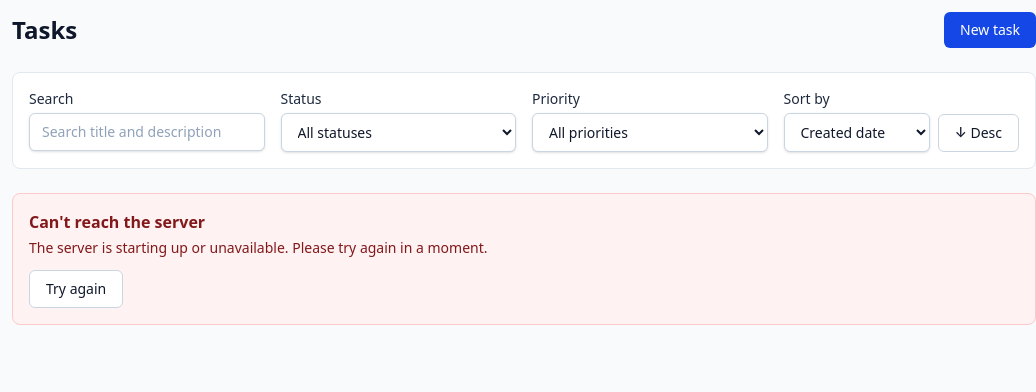
Test: TasksScreen › shows the server-unavailable message for a non-JSON 502 and does not redirect (AC-ERR-5)
Check: the text "The server is starting up or unavailable. Please try again in a moment." is shown, box [29,238,488,257]
Click the button "Try again". click: (76,289)
box: [29,270,123,308]
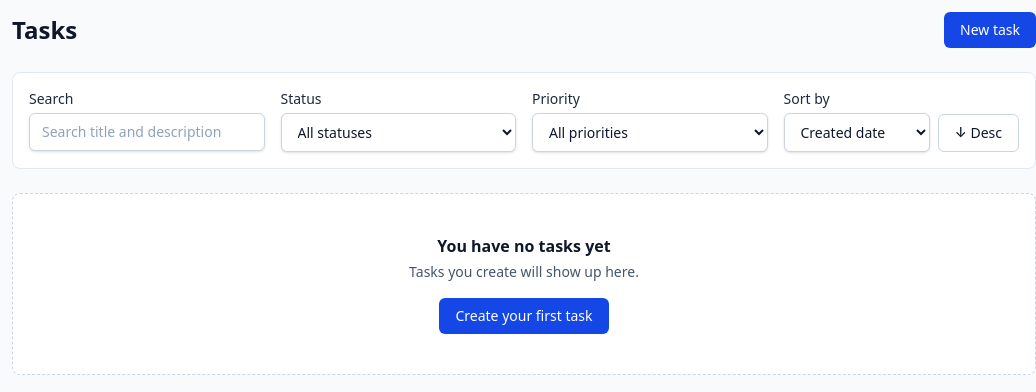
Check: the text "You have no tasks yet" is shown, box [437,235,611,257]
